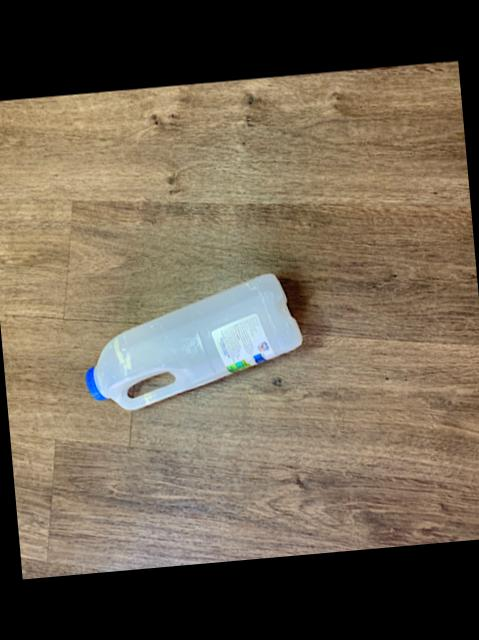plastic: (82, 273, 298, 408)
